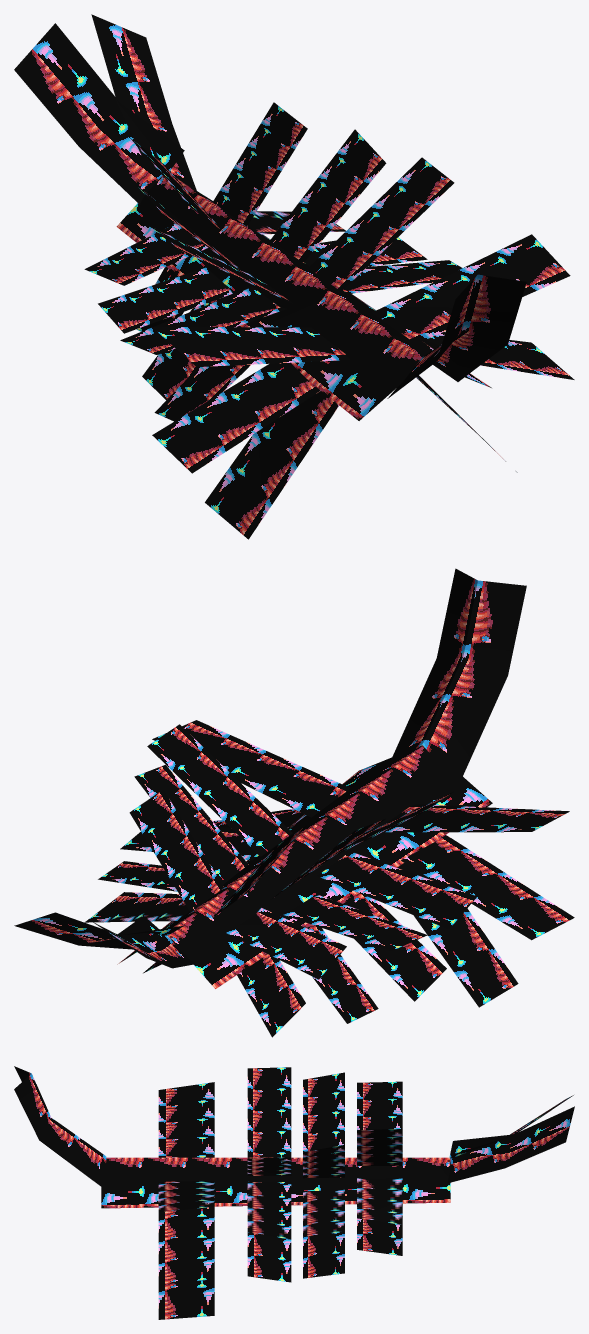
Rendered from 5043musi53.gltf.
3 renders of one model, top to bottom at view 1: azimuth 30°, elevation 25°; view 2: azimuth 150°, elevation 25°; view 3: azimuth 270°, elevation 25°, orthographic. The views are drawn at different scales.
Parts seen in each view (by area): view 1: 5043musi53; view 2: 5043musi53; view 3: 5043musi53.
Part boxes in pixels (x1,y1,x2,y2): 5043musi53: [14, 14, 574, 539]; 5043musi53: [14, 568, 574, 1037]; 5043musi53: [14, 1066, 574, 1319].
Bounding box in the file's own units: 0.3379 × 0.2542 × 0.6387.
Materials: 4 (4 with a texture image).
